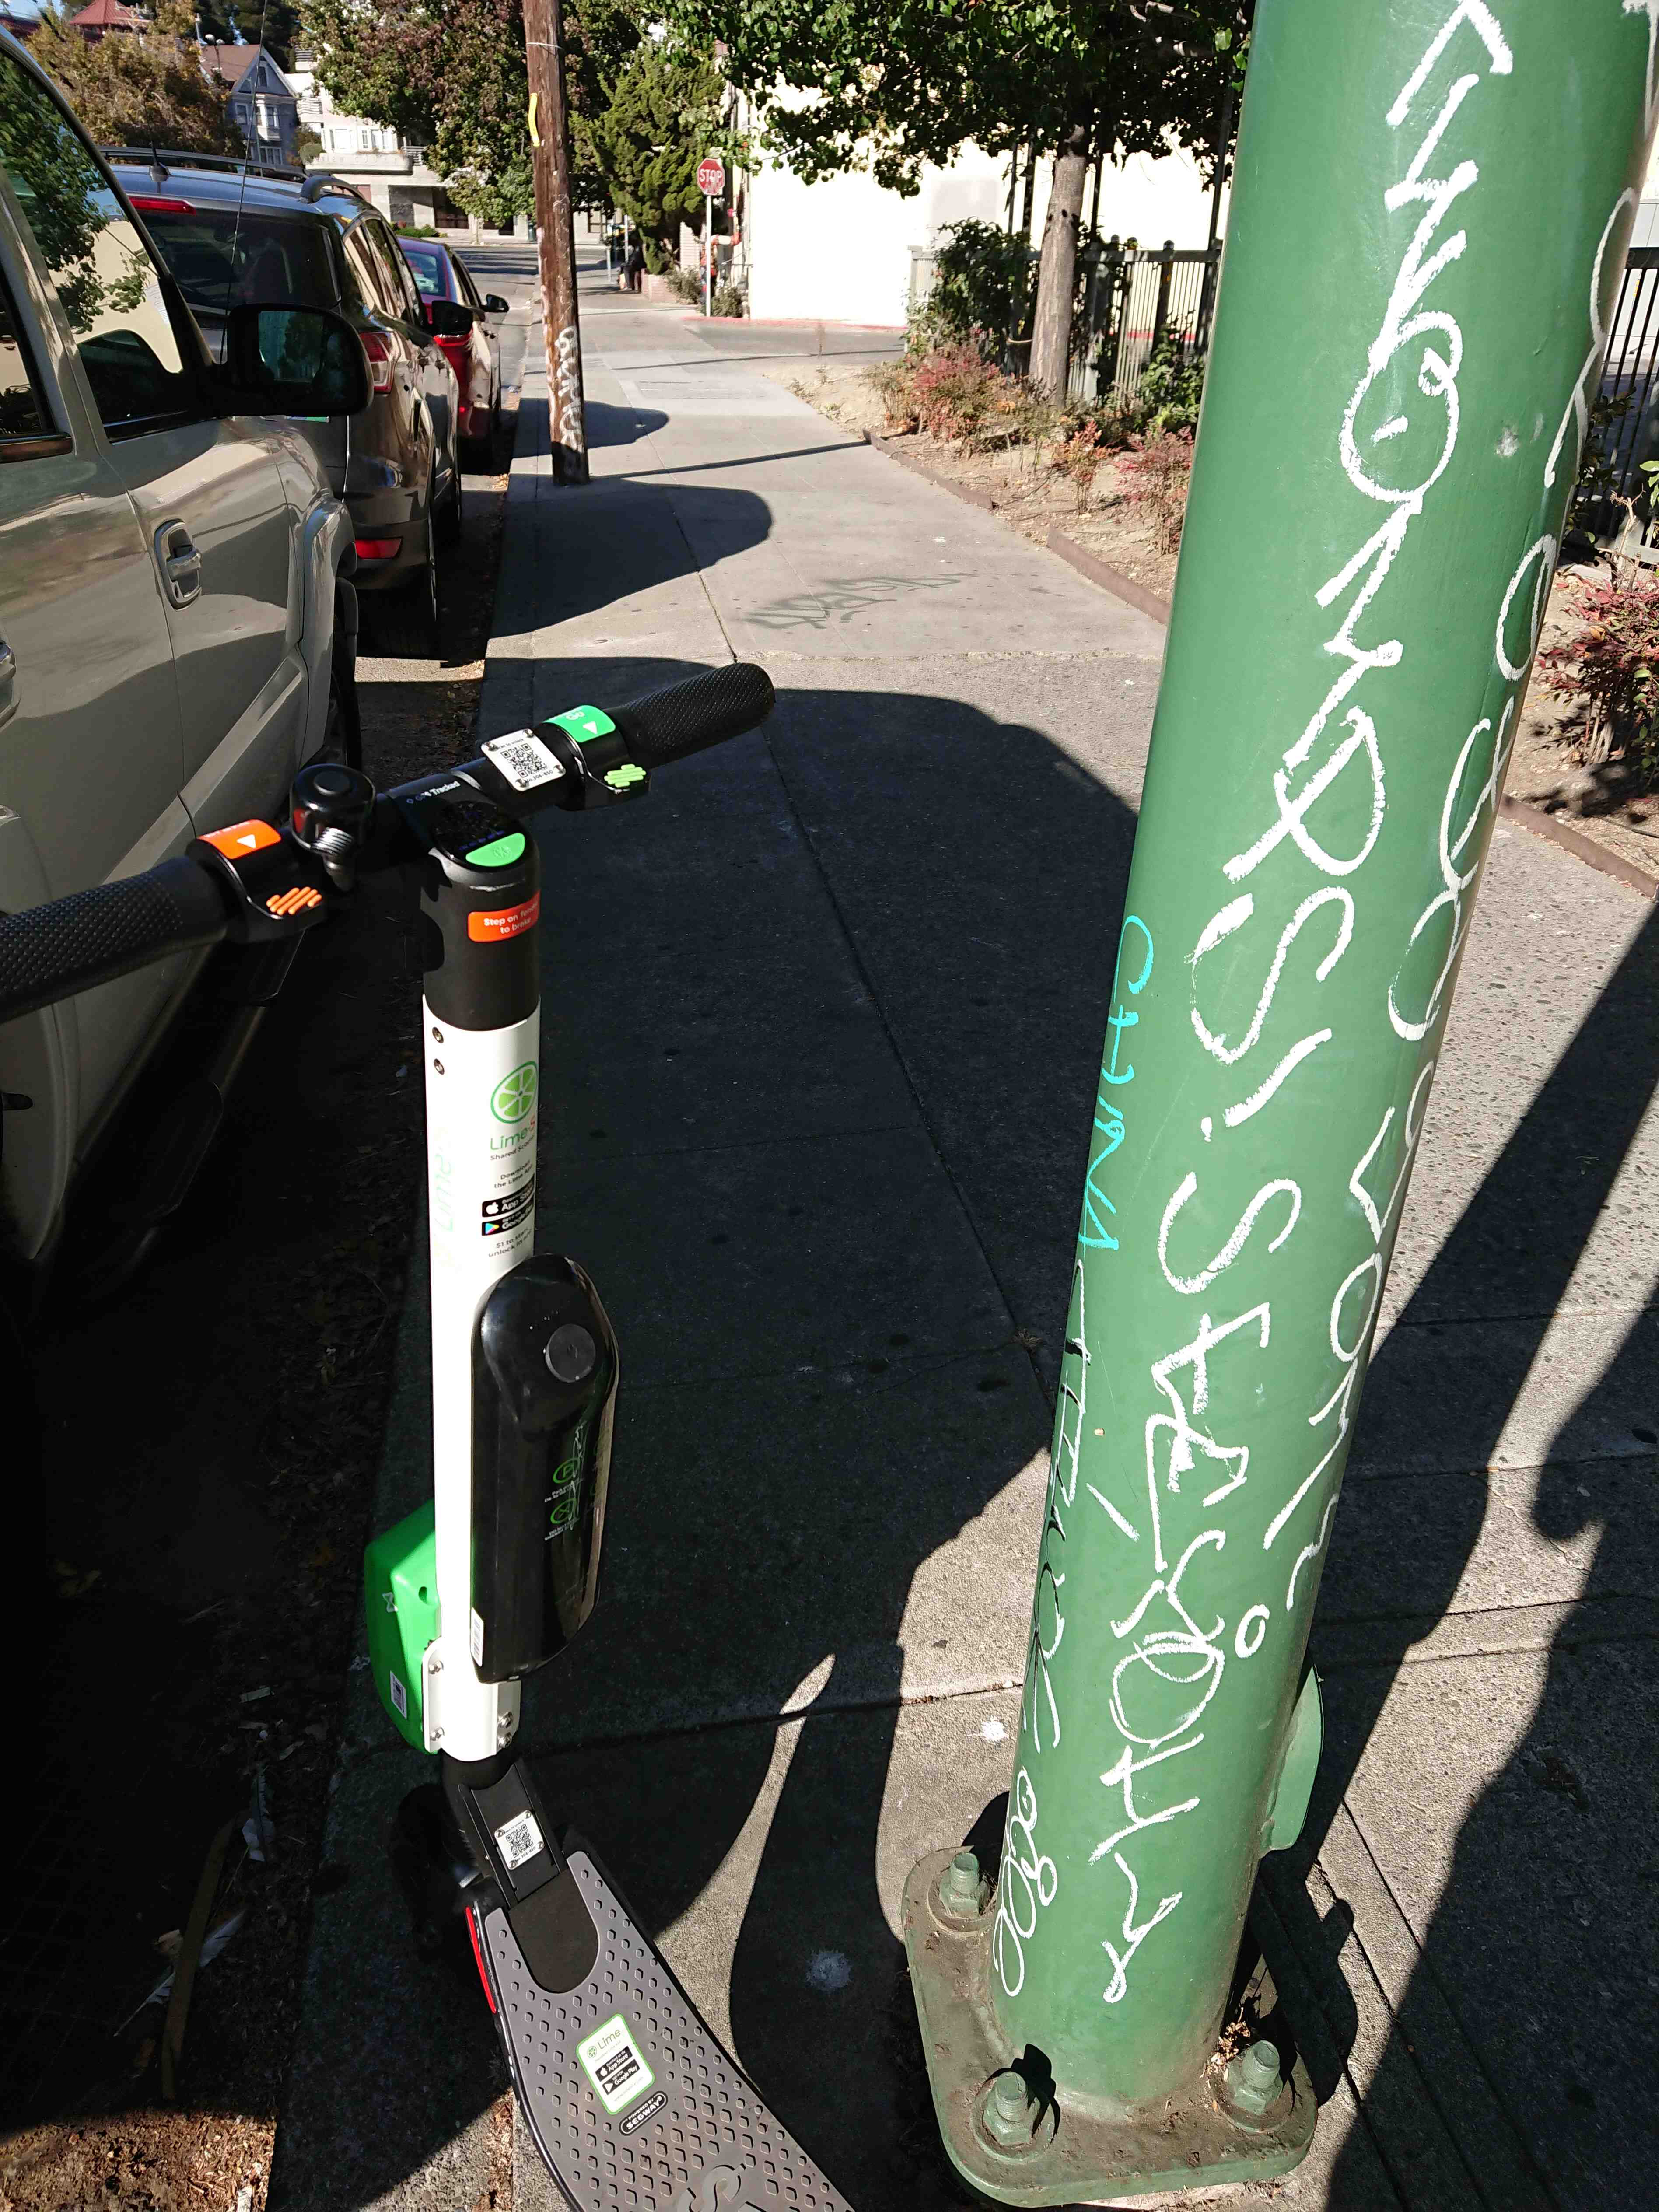scooter: (38, 643, 1441, 2212)
